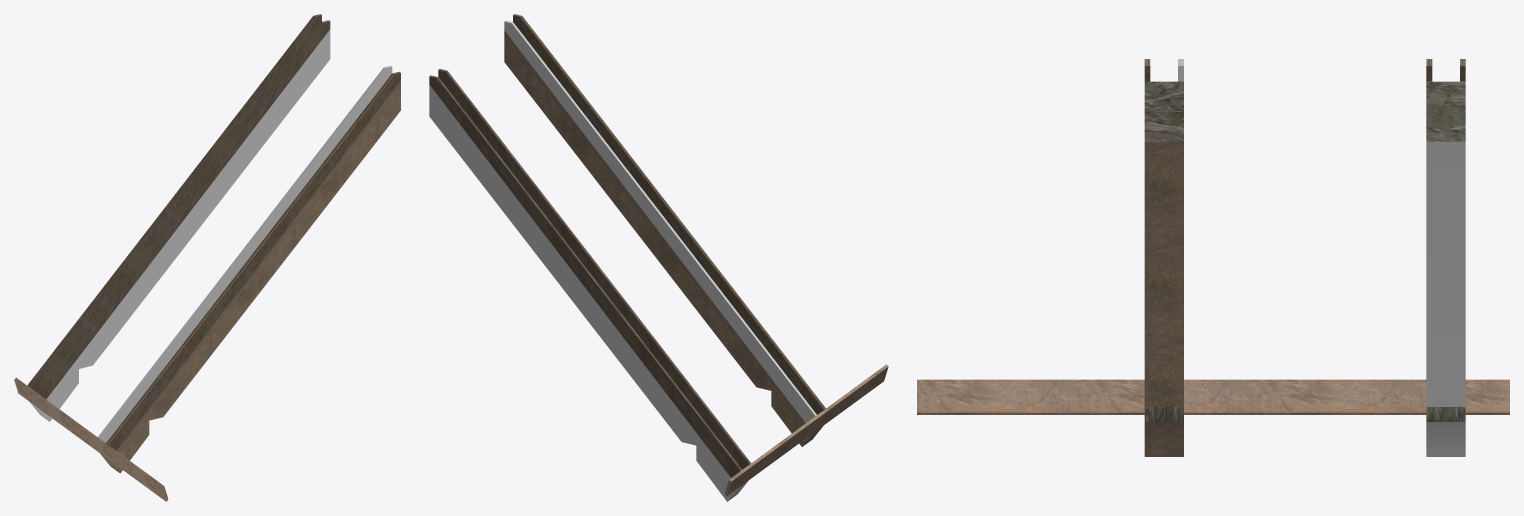
The model's file is RafterMidB.fbx.
3 views of the same model, side by side, from view 1: azimuth 30°, elevation 25°; view 2: azimuth 150°, elevation 25°; view 3: azimuth 270°, elevation 25° (orthographic). The views are drawn at different scales.
Parts seen in each view (by area): view 1: RafterMidB; view 2: RafterMidB; view 3: RafterMidB.
Boxes of the visible parts, x1,y1,x2,y2 form: RafterMidB: (14, 14, 400, 501); RafterMidB: (429, 14, 888, 501); RafterMidB: (917, 59, 1509, 456).
Bounding box in the file's own units: 465 × 500 × 404.
